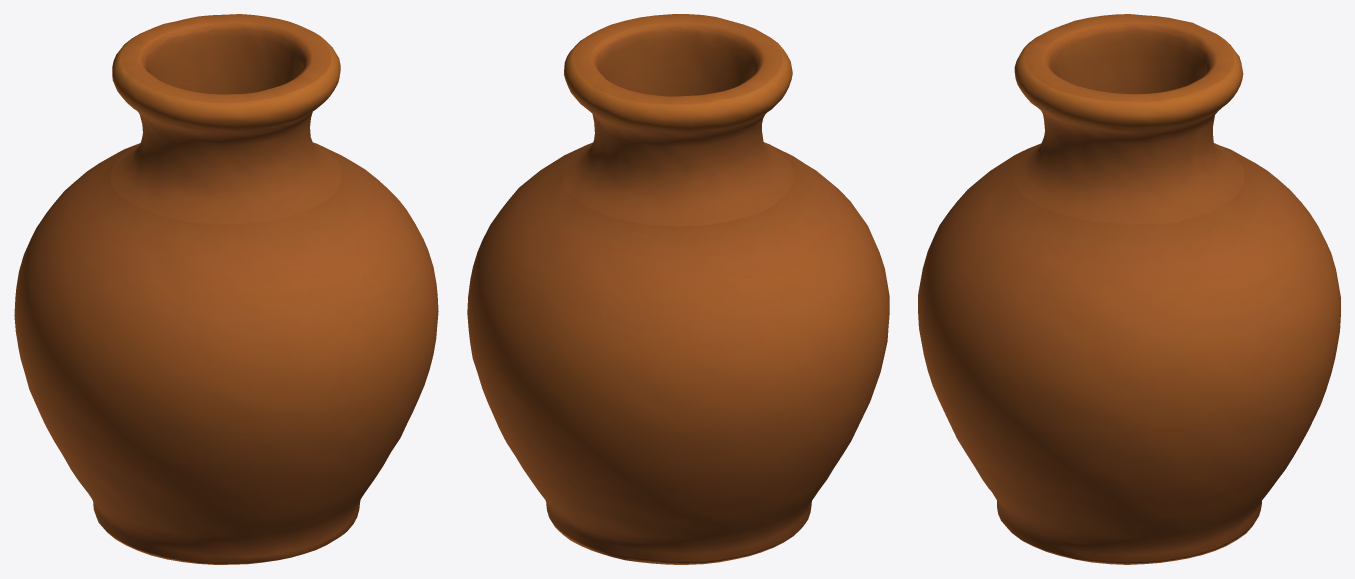
Rendered from selected.glb.
The picture shows the model from 3 angles, left to right: view 1: azimuth 30°, elevation 25°; view 2: azimuth 150°, elevation 25°; view 3: azimuth 270°, elevation 25°; orthographic projection.
Visible parts, largest first — view 1: tripo_node_7252a766-02c8-4af2-934a-5dd3a032f36d; view 2: tripo_node_7252a766-02c8-4af2-934a-5dd3a032f36d; view 3: tripo_node_7252a766-02c8-4af2-934a-5dd3a032f36d.
Boxes of the visible parts, x1,y1,x2,y2 form: tripo_node_7252a766-02c8-4af2-934a-5dd3a032f36d: (14, 14, 438, 564); tripo_node_7252a766-02c8-4af2-934a-5dd3a032f36d: (467, 14, 889, 564); tripo_node_7252a766-02c8-4af2-934a-5dd3a032f36d: (918, 14, 1340, 564).
Size of the model in its own units: 0.8457 by 0.998 by 0.8457.
1 material, 1 textured.
